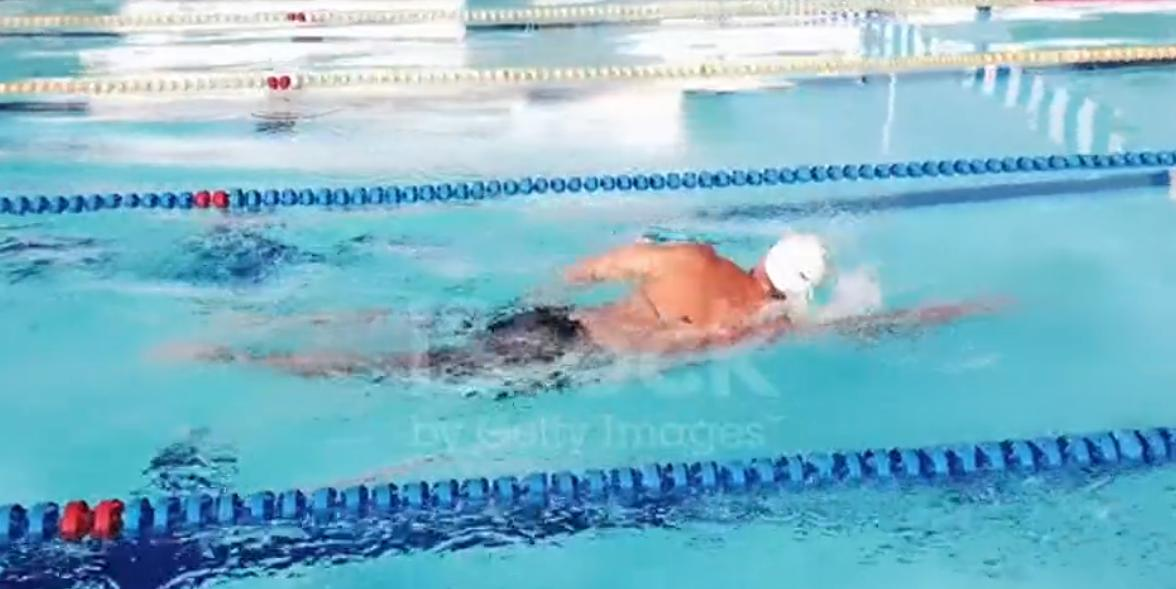Swimming: (170, 186, 938, 427)
